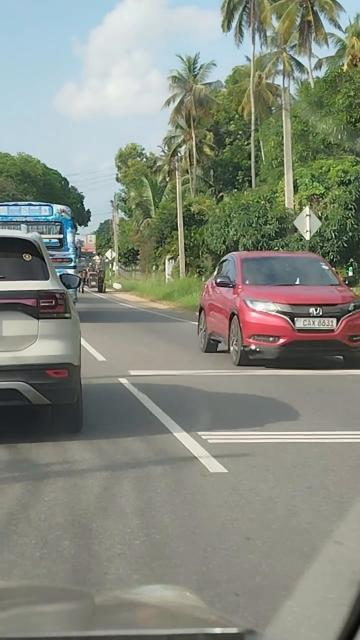number plate: (290, 315, 342, 338)
